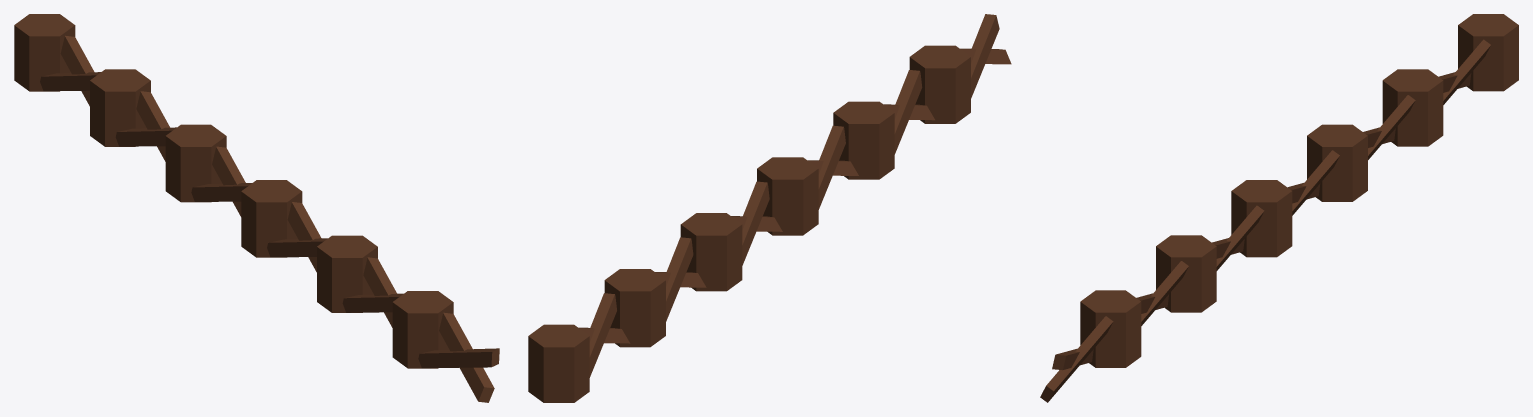
Rendered from zabor.fbx.
3 renders of one model, left to right at view 1: azimuth 30°, elevation 25°; view 2: azimuth 150°, elevation 25°; view 3: azimuth 330°, elevation 25°, orthographic.
Visible parts, largest first — view 1: zabor; view 2: zabor; view 3: zabor.
Part boxes in pixels (x1,y1,x2,y2): zabor: (14, 14, 499, 402); zabor: (528, 14, 1011, 402); zabor: (1040, 14, 1518, 402).
Size of the model in its own units: 87.54 by 101 by 1519.
